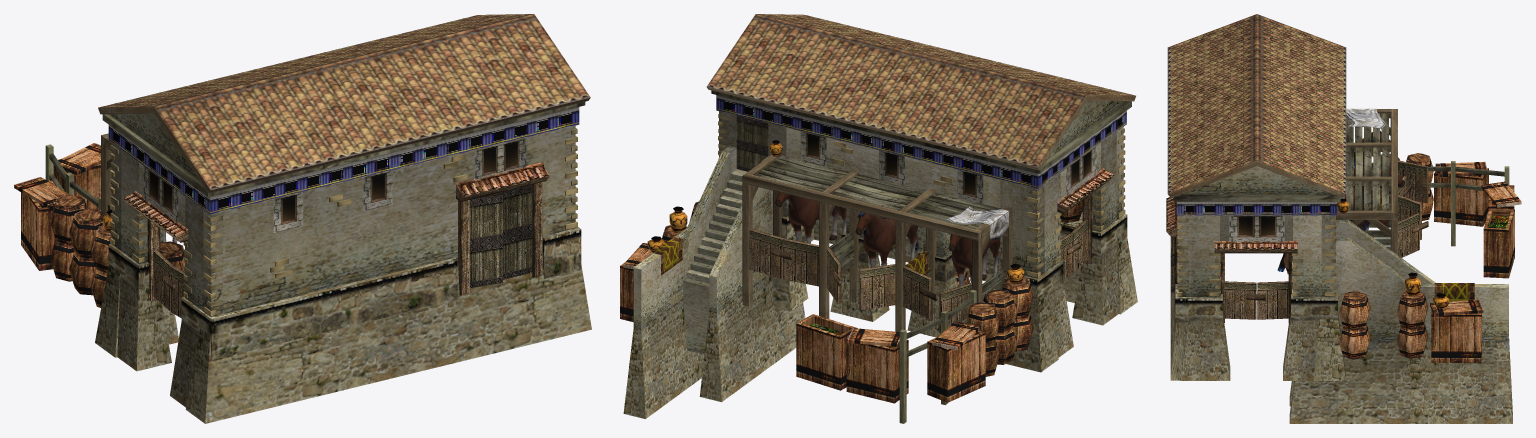
Rendered from stable.glb.
3 views of the same model, side by side, from view 1: azimuth 30°, elevation 25°; view 2: azimuth 150°, elevation 25°; view 3: azimuth 270°, elevation 25° (orthographic). The views are drawn at different scales.
Visible parts, largest first — view 1: stable_part0, stable_part2, stable_part1, stable_part3; view 2: stable_part0, stable_part2, stable_part1, stable_part3, stable_part4, stable_part7, stable_part10; view 3: stable_part0, stable_part2, stable_part1, stable_part3.
Boxes of the visible parts, <box> form: stable_part0: <box>45,14,591,423</box>; stable_part2: <box>14,138,526,307</box>; stable_part1: <box>122,162,549,318</box>; stable_part3: <box>108,107,579,214</box>; stable_part0: <box>623,14,1137,423</box>; stable_part2: <box>620,131,1096,403</box>; stable_part1: <box>736,115,1114,332</box>; stable_part3: <box>716,95,1126,188</box>; stable_part4: <box>855,213,918,267</box>; stable_part7: <box>774,192,846,243</box>; stable_part10: <box>948,234,1000,286</box>; stable_part0: <box>1167,14,1512,423</box>; stable_part2: <box>1229,108,1521,363</box>; stable_part1: <box>1166,160,1428,322</box>; stable_part3: <box>1176,201,1337,215</box>.
Size of the model in its own units: 4.2 by 3.36 by 4.05.
Materials: 6 (6 with a texture image).
